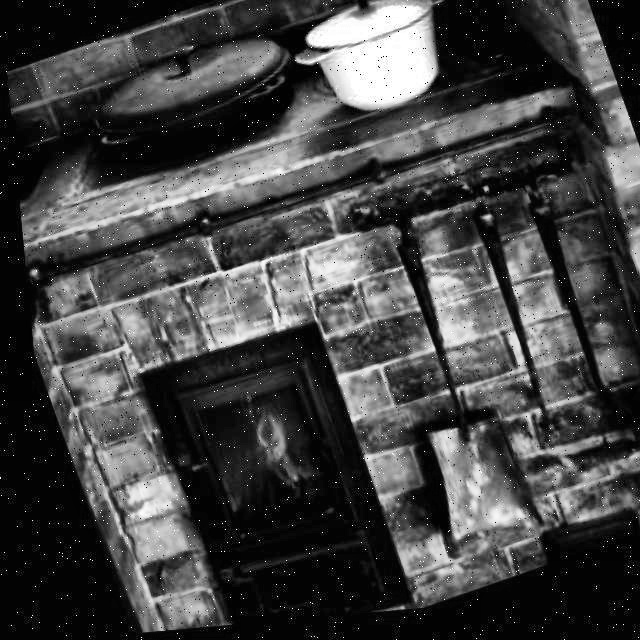Fire: (217, 383, 309, 518)
